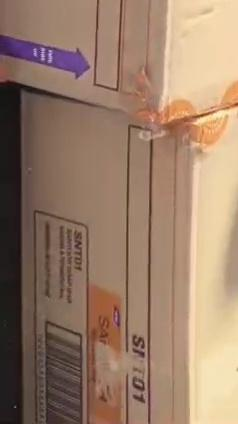box: (22, 93, 237, 423)
